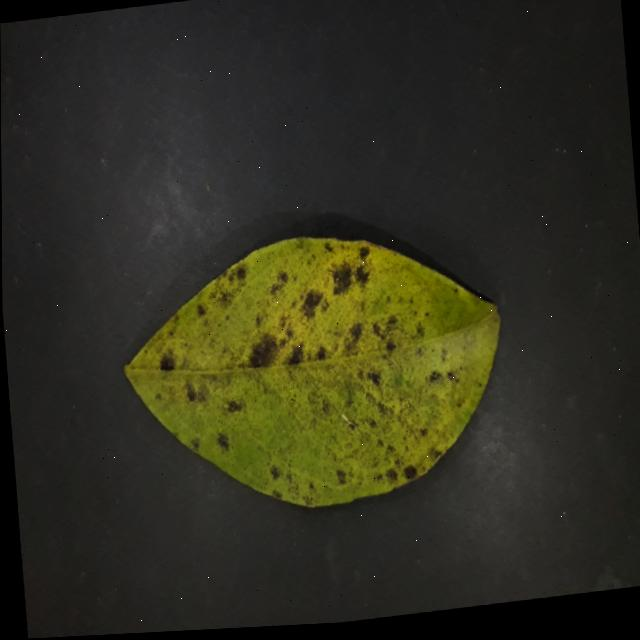greasy_spot: (124, 237, 499, 505)
